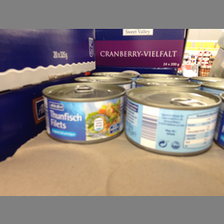fish: (123, 87, 221, 158), (41, 81, 126, 144)
